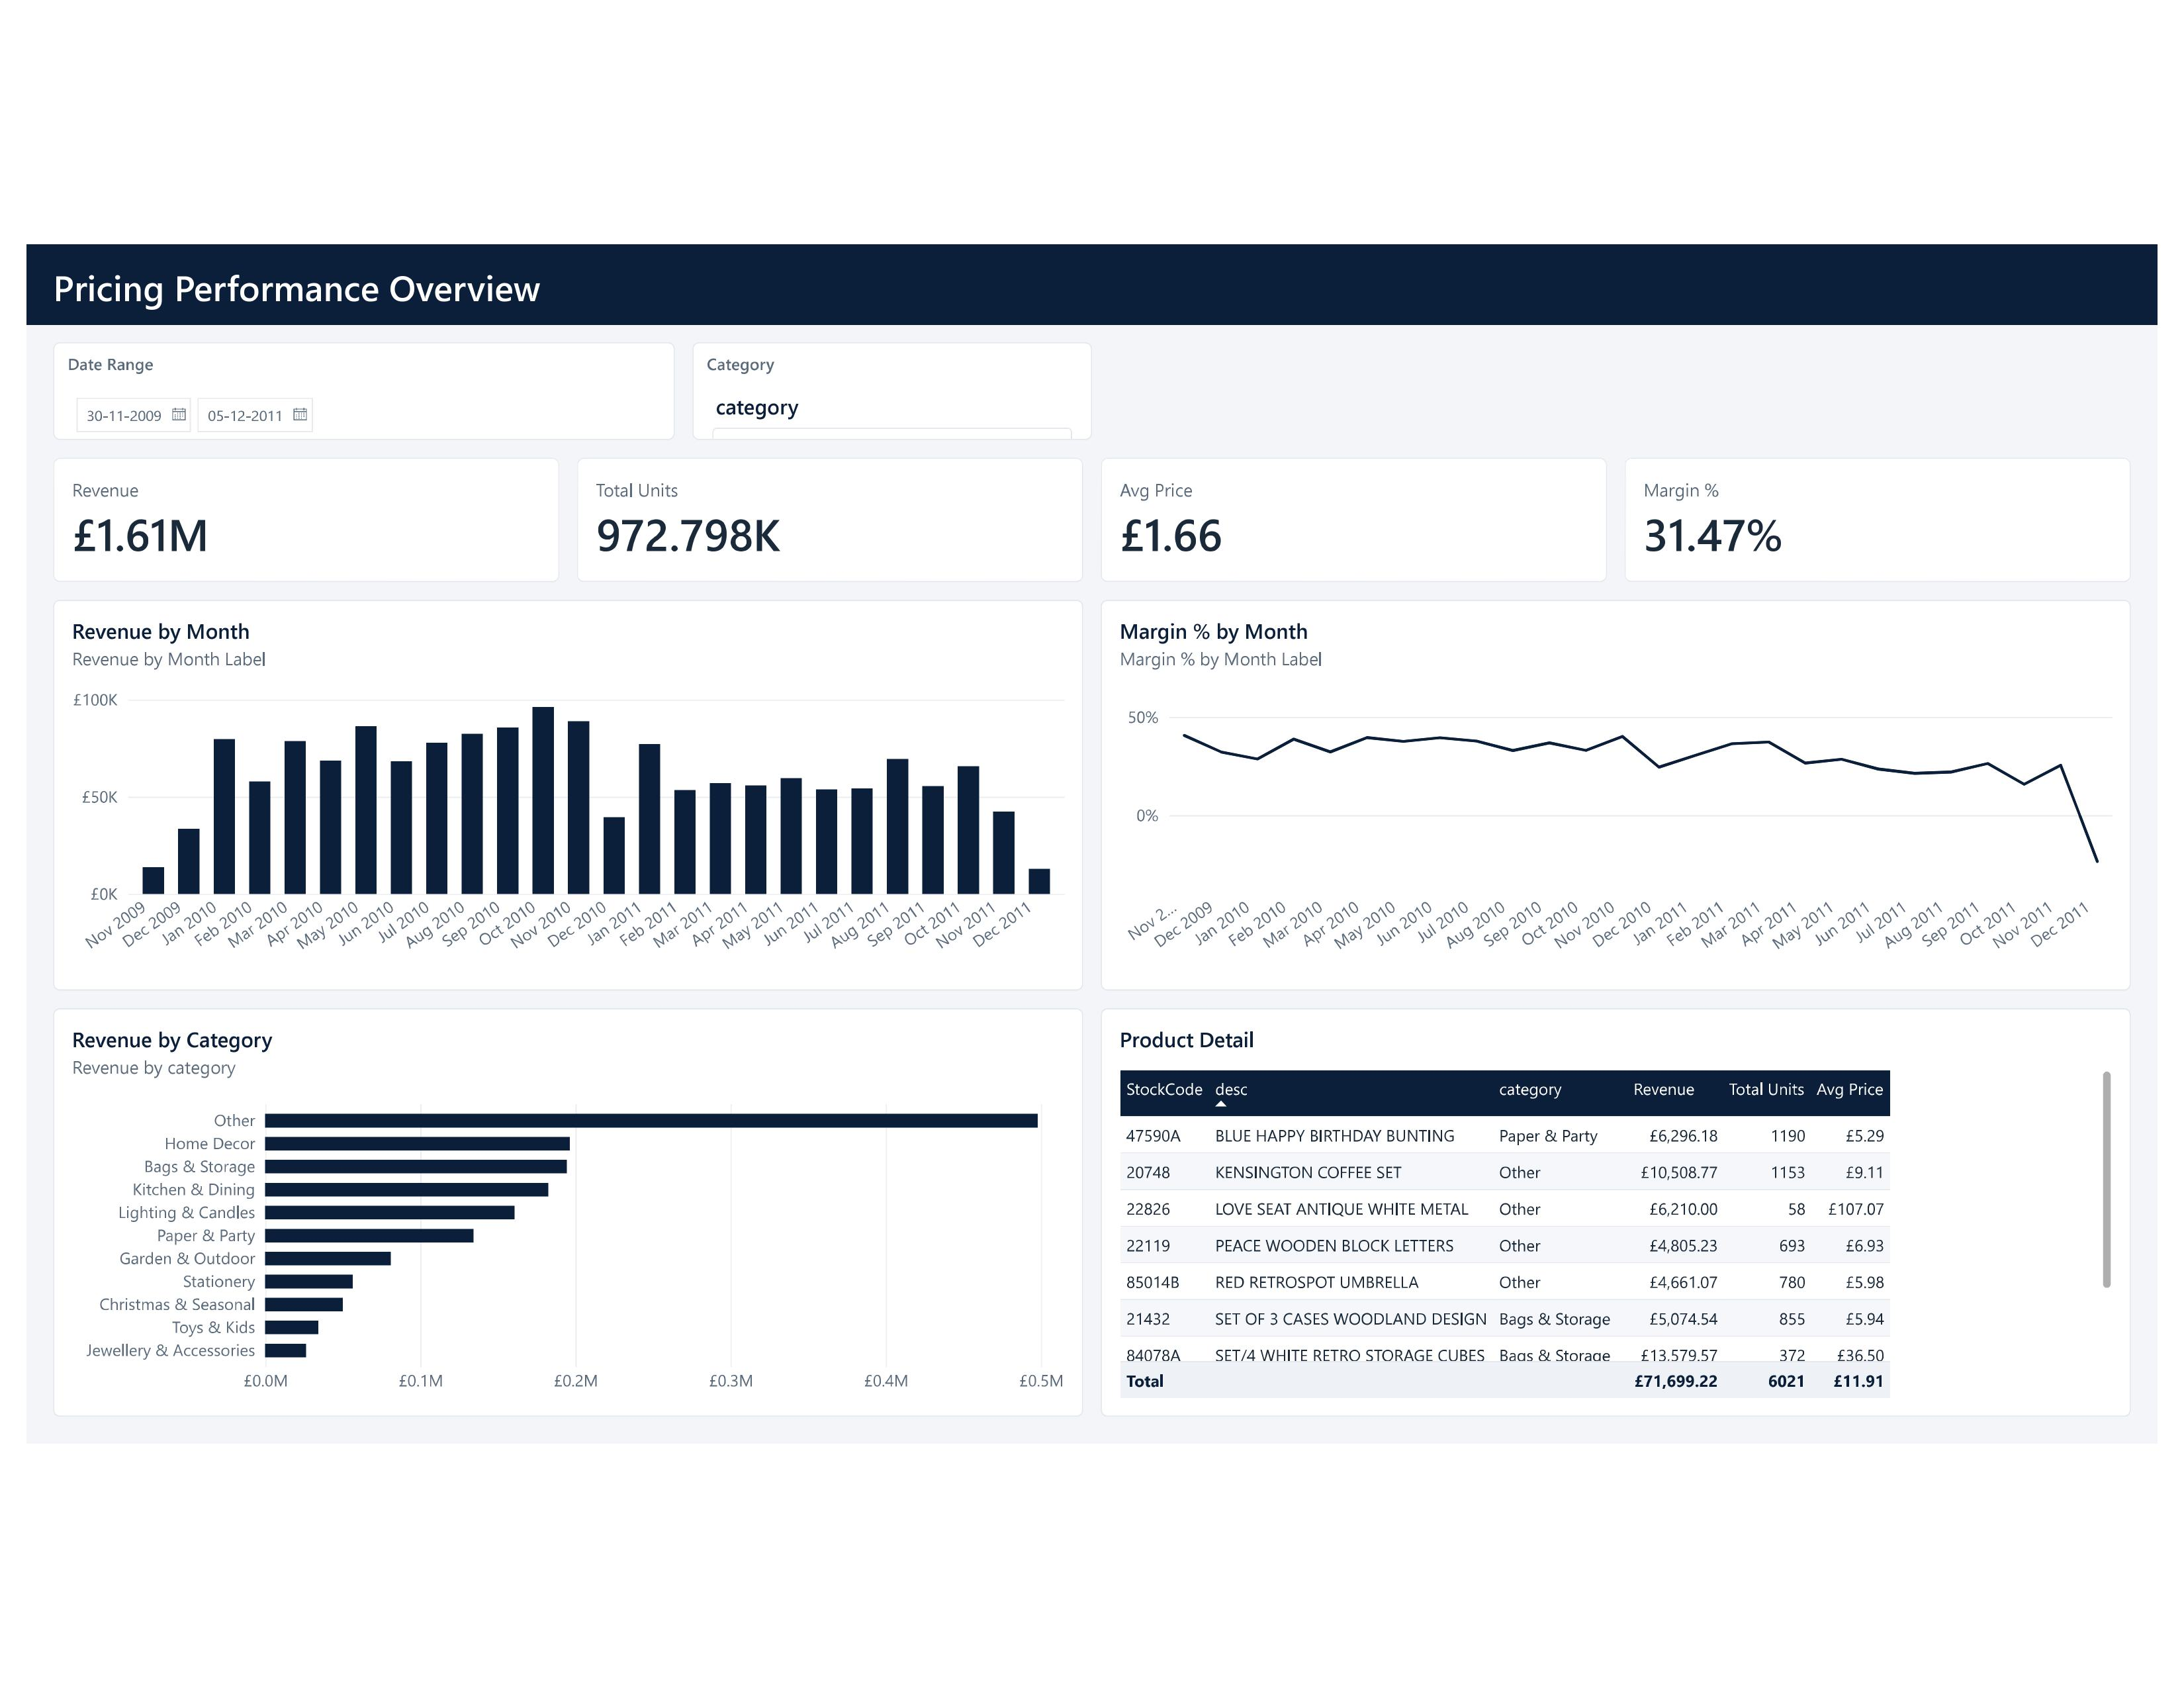

Layout of this report page (visuals, bound fields, positions):
{"tool":"powerbi","page":{"name":"Overview","canvas":[1920,1080],"ordinal":0},"visuals":[{"type":"textbox","box":[0,0,1920,72],"z":0},{"type":"clusteredColumnChart","title":"Revenue by Month","fields":{"Category":["Calendar.Month Label"],"Y":["panel.Revenue"]},"box":[24,320,928,352],"z":1000},{"type":"lineChart","title":"Margin % by Month","fields":{"Category":["Calendar.Month Label"],"Y":["panel.Margin %"]},"box":[968,320,928,352],"z":2000},{"type":"clusteredBarChart","title":"Revenue by Category","fields":{"Category":["panel.category"],"Y":["panel.Revenue"]},"box":[24,688,928,368],"z":3000},{"type":"tableEx","title":"Product Detail","fields":{"Values":["panel.StockCode","panel.desc","panel.category","panel.Revenue","panel.Total Units","panel.Avg Price"]},"box":[968,688,928,368],"z":4000},{"type":"slicer","title":"Category","fields":{"Values":["panel.category"]},"box":[600,88,360,88],"z":5000},{"type":"slicer","title":"Date Range","fields":{"Values":["Calendar.Date"]},"box":[24,88,560,88],"z":6000},{"type":"cardVisual","fields":{"Data":["panel.Revenue"]},"box":[24,192,456,112],"z":7000},{"type":"cardVisual","fields":{"Data":["panel.Total Units"]},"box":[496,192,456,112],"z":8000},{"type":"cardVisual","fields":{"Data":["panel.Margin %"]},"box":[1440,192,456,112],"z":9000},{"type":"cardVisual","fields":{"Data":["panel.Avg Price"]},"box":[968,192,456,112],"z":10000}]}

Visuals, with their boxes on the page's 1920x1080 design canvas (x1, y1, x2, y2). These are canvas units, not pixel positions in the 2184x1688 screenshot, which may show the page scaled, cropped or inside an application window:
textbox: 0,0,1920,72
"Revenue by Month" clusteredColumnChart: 24,320,952,672
"Margin % by Month" lineChart: 968,320,1896,672
"Revenue by Category" clusteredBarChart: 24,688,952,1056
"Product Detail" tableEx: 968,688,1896,1056
"Category" slicer: 600,88,960,176
"Date Range" slicer: 24,88,584,176
cardVisual - panel.Revenue: 24,192,480,304
cardVisual - panel.Total Units: 496,192,952,304
cardVisual - panel.Margin %: 1440,192,1896,304
cardVisual - panel.Avg Price: 968,192,1424,304
